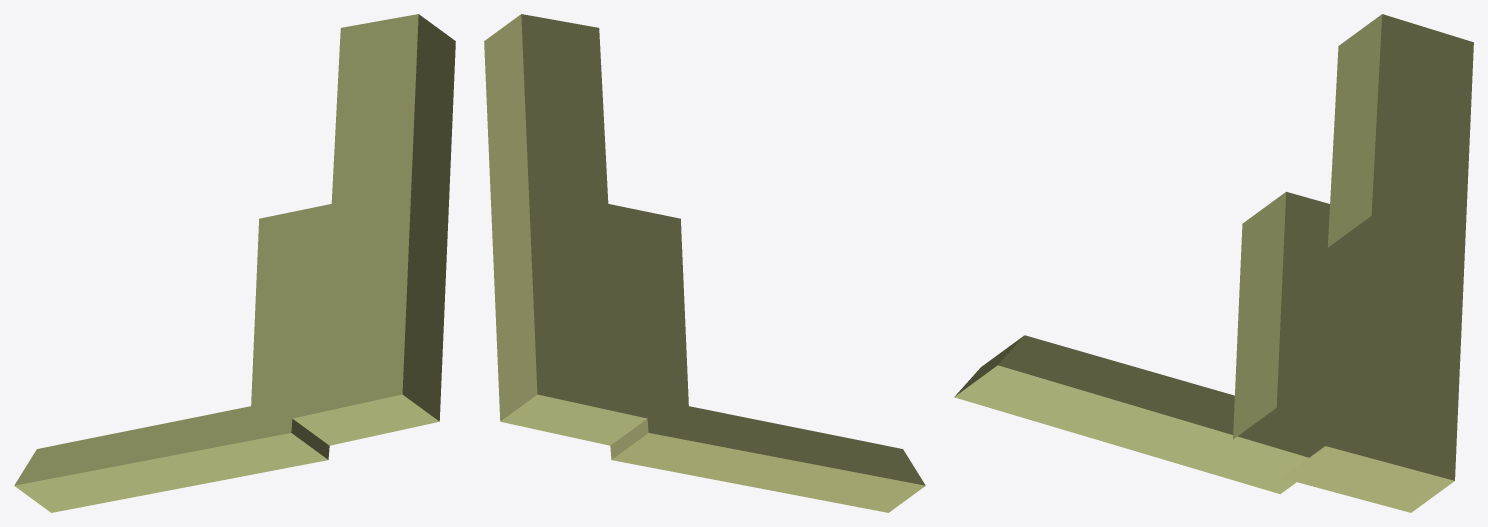
The picture shows the model from 3 angles, left to right: view 1: azimuth 30°, elevation 25°; view 2: azimuth 150°, elevation 25°; view 3: azimuth 330°, elevation 25°; orthographic projection. The views are drawn at different scales.
Visible parts, largest first — view 1: 0_0_3_1_2_0_1_0_2; view 2: 0_0_3_1_2_0_1_0_2; view 3: 0_0_3_1_2_0_1_0_2.
Part boxes in pixels (bbox=[...]): 0_0_3_1_2_0_1_0_2: bbox=[14, 14, 455, 512]; 0_0_3_1_2_0_1_0_2: bbox=[484, 14, 925, 512]; 0_0_3_1_2_0_1_0_2: bbox=[954, 14, 1473, 512].
Bounding box in the file's own units: 37.66 × 34.95 × 6.
